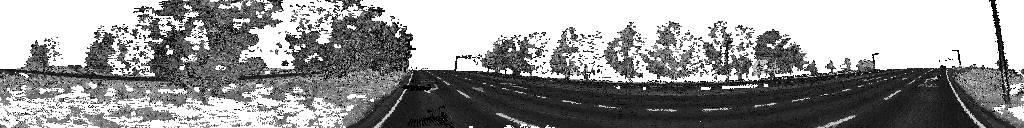gantry_sign_pole: (454, 55, 482, 69)
light_pole: (989, 0, 1011, 104), (952, 51, 963, 69), (871, 53, 879, 60)
